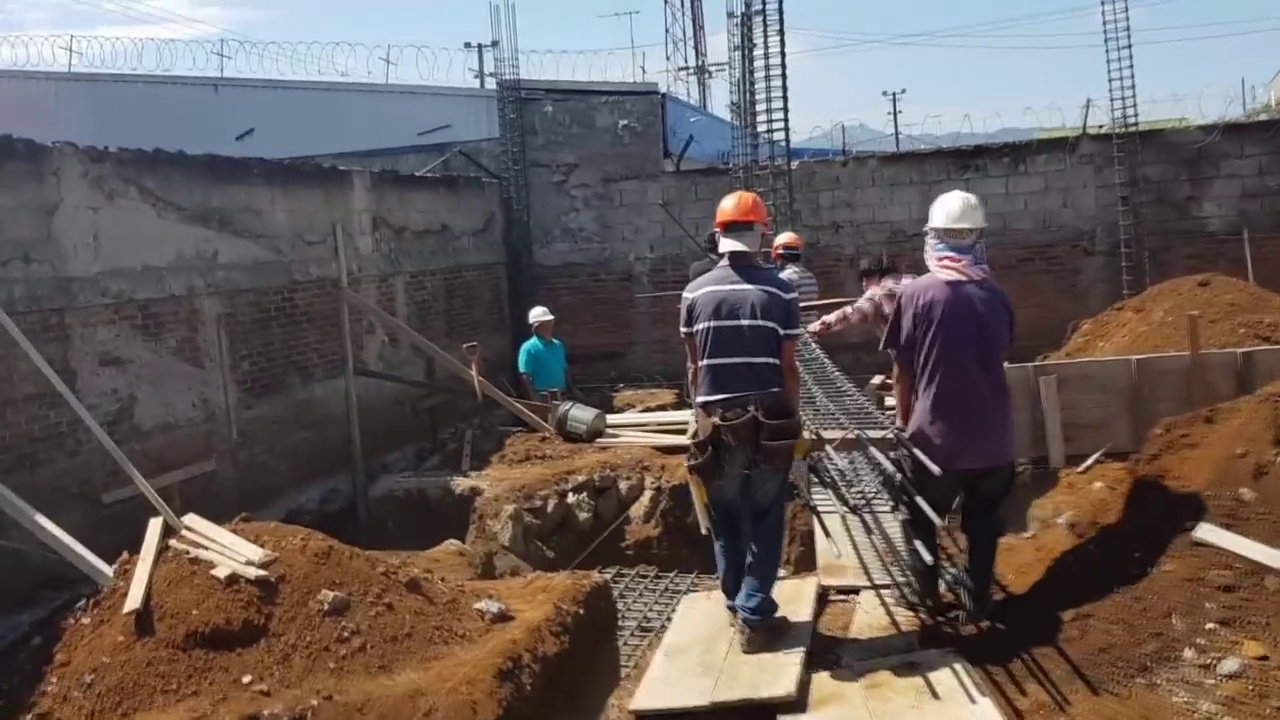helmet: (924, 189, 992, 243), (711, 189, 770, 230), (772, 230, 805, 259), (527, 305, 553, 324)
helmet-off: (858, 249, 906, 295)
helmet-on: (924, 188, 994, 277), (711, 189, 770, 275), (771, 228, 806, 270), (527, 305, 556, 343)
person: (843, 181, 1027, 635), (678, 184, 822, 651), (810, 249, 924, 353), (510, 303, 575, 398), (763, 226, 822, 326)
